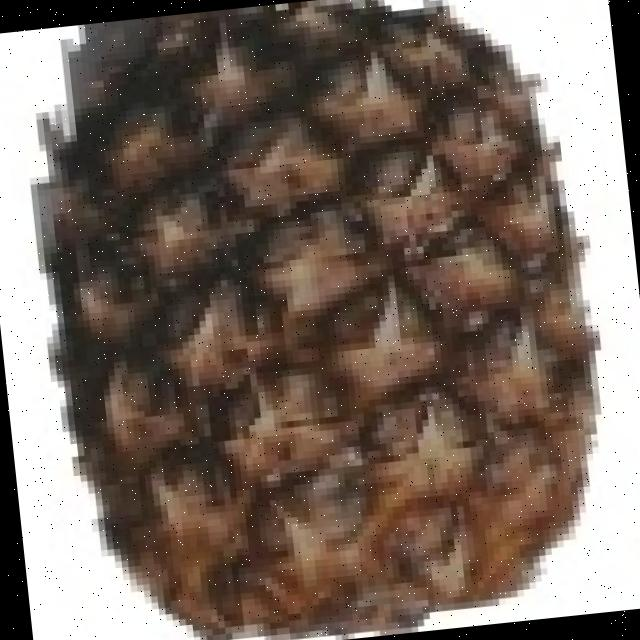pineapple: (50, 5, 602, 640)
